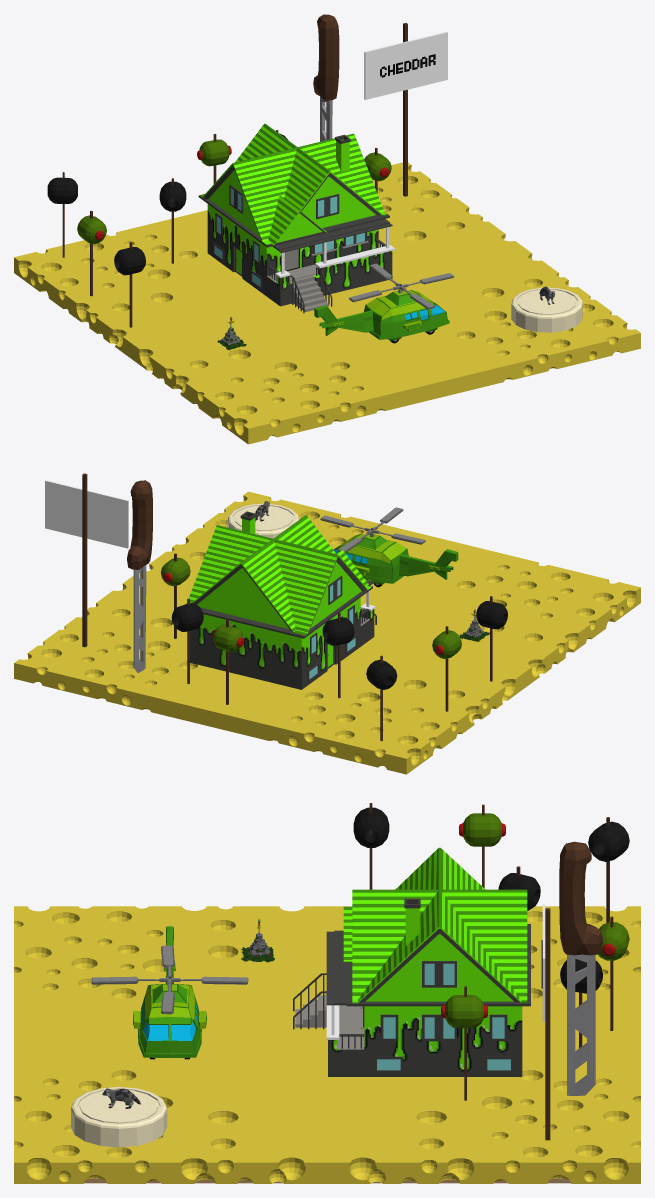
3 renders of one model, top to bottom at view 1: azimuth 30°, elevation 25°; view 2: azimuth 150°, elevation 25°; view 3: azimuth 270°, elevation 25°, orthographic. The views are drawn at different scales.
Parts seen in each view (by area): view 1: Cube.022, Cube.754, VEHICLES_HELICOPTER, Cube.023, Cylinder.016, Cube.024, Sphere.017, Sphere.016, Sphere.020, Sphere.018, Sphere.022, Sphere.019; view 2: Cube.022, Cube.754, Cube.023, VEHICLES_HELICOPTER, Cube.024, Cylinder.016, Sphere.017, Sphere.020, Sphere.021, Sphere.016, Sphere.018, Sphere.022 (+1 smaller); view 3: Cube.022, Cube.754, Cube.024, VEHICLES_HELICOPTER, Cylinder.016, Cube.023, Sphere.019, Sphere.016, Sphere.018, Sphere.017, Sphere.022, Sphere.020 (+3 smaller).
Part boxes in pixels (x1=…): Cube.022: x1=14, y1=162, x2=640, y2=444; Cube.754: x1=198, y1=123, x2=395, y2=313; VEHICLES_HELICOPTER: x1=314, y1=263, x2=454, y2=343; Cube.023: x1=364, y1=23, x2=447, y2=196; Cylinder.016: x1=511, y1=287, x2=582, y2=332; Cube.024: x1=313, y1=14, x2=339, y2=141; Sphere.017: x1=114, y1=242, x2=145, y2=327; Sphere.016: x1=47, y1=172, x2=77, y2=257; Sphere.020: x1=159, y1=178, x2=186, y2=263; Sphere.018: x1=77, y1=210, x2=106, y2=296; Sphere.022: x1=197, y1=134, x2=231, y2=183; Sphere.019: x1=364, y1=148, x2=391, y2=193; Cube.022: x1=14, y1=491, x2=640, y2=774; Cube.754: x1=185, y1=511, x2=376, y2=689; Cube.023: x1=45, y1=473, x2=128, y2=647; VEHICLES_HELICOPTER: x1=320, y1=507, x2=458, y2=587; Cube.024: x1=127, y1=480, x2=152, y2=672; Cylinder.016: x1=228, y1=503, x2=298, y2=538; Sphere.017: x1=476, y1=596, x2=507, y2=681; Sphere.020: x1=322, y1=612, x2=354, y2=698; Sphere.021: x1=171, y1=598, x2=203, y2=683; Sphere.016: x1=366, y1=655, x2=397, y2=741; Sphere.018: x1=432, y1=626, x2=461, y2=711; Sphere.022: x1=212, y1=619, x2=244, y2=704; Cube.022: x1=14, y1=906, x2=640, y2=1183; Cube.754: x1=293, y1=847, x2=530, y2=1076; Cube.024: x1=559, y1=841, x2=602, y2=1095; VEHICLES_HELICOPTER: x1=91, y1=926, x2=248, y2=1059; Cylinder.016: x1=71, y1=1086, x2=167, y2=1147; Cube.023: x1=541, y1=904, x2=550, y2=1140; Sphere.019: x1=441, y1=986, x2=487, y2=1100; Sphere.016: x1=588, y1=817, x2=629, y2=922; Sphere.018: x1=459, y1=804, x2=505, y2=888; Sphere.017: x1=353, y1=803, x2=389, y2=889; Sphere.022: x1=598, y1=916, x2=629, y2=1030; Sphere.020: x1=498, y1=866, x2=540, y2=910.
Size of the model in its own units: 3917 by 1957 by 4000.
Materials: 38 (5 with a texture image).
